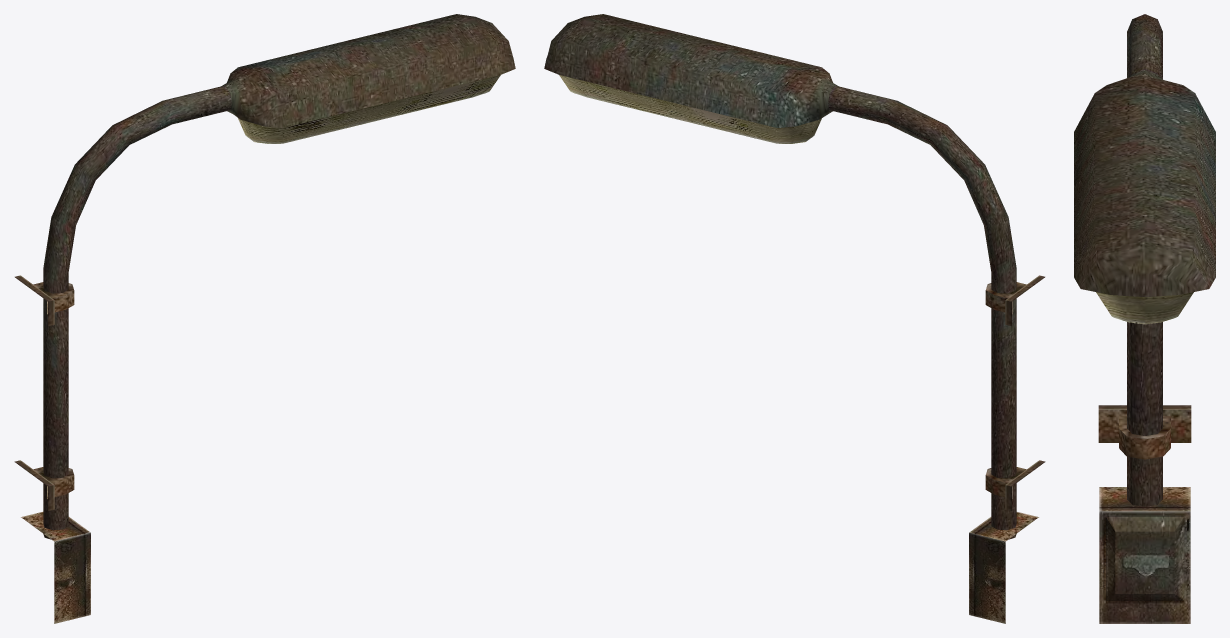
The model's file is streetlight.glb.
3 views of the same model, side by side, from view 1: azimuth 30°, elevation 25°; view 2: azimuth 150°, elevation 25°; view 3: azimuth 270°, elevation 25° (orthographic). The views are drawn at different scales.
Visible parts, largest first — view 1: 0_streetlight; view 2: 0_streetlight; view 3: 0_streetlight.
Part boxes in pixels (x1,y1,x2,y2): 0_streetlight: (14,14,515,623); 0_streetlight: (544,14,1045,623); 0_streetlight: (1074,14,1215,623).
Size of the model in its own units: 1.78 by 1.74 by 0.3382.
Materials: 1 (1 with a texture image).
